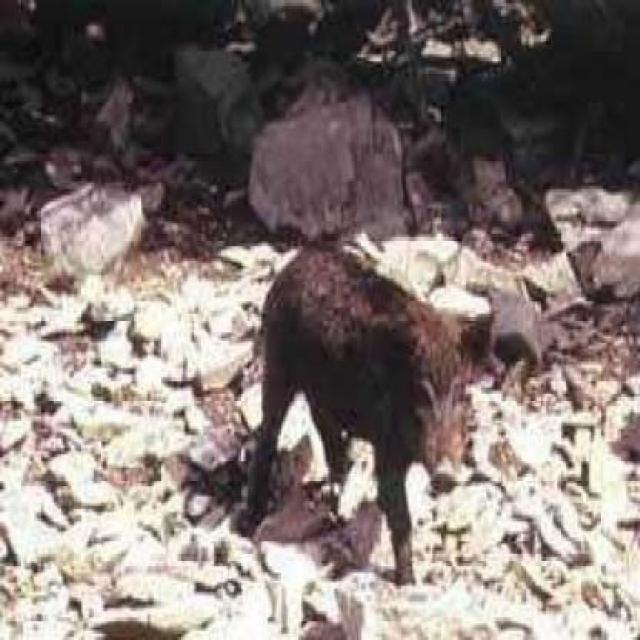pig: (235, 220, 533, 513)
